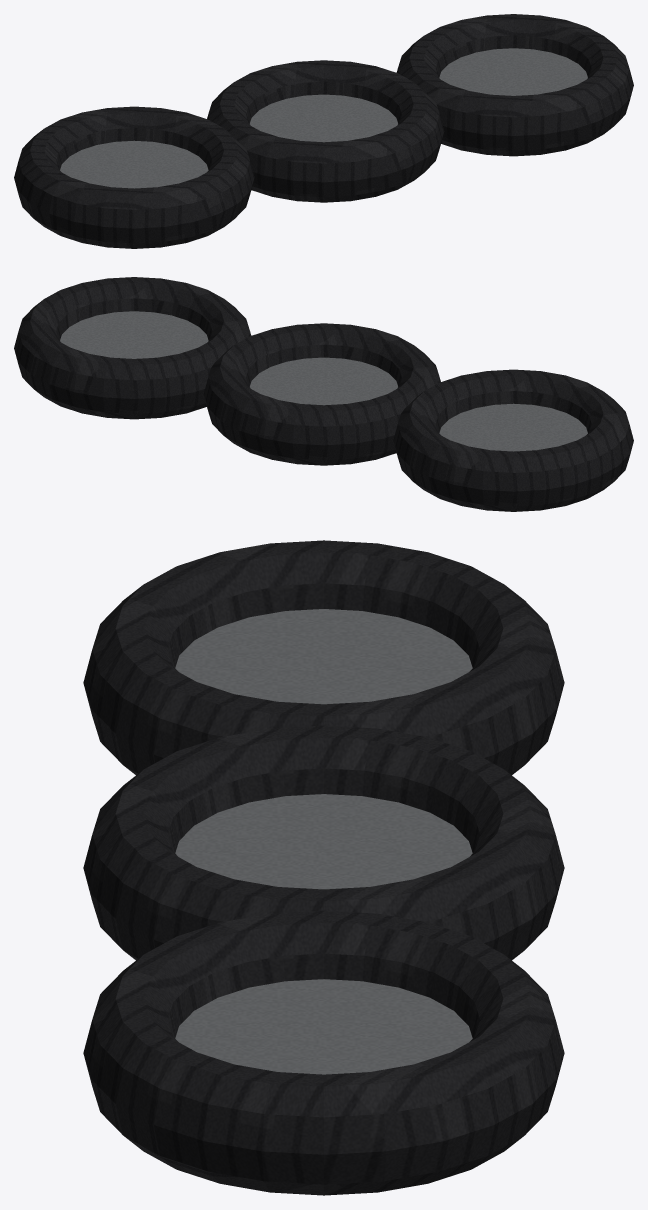
File: tire_row_3.dae
3 renders of one model, top to bottom at view 1: azimuth 30°, elevation 25°; view 2: azimuth 150°, elevation 25°; view 3: azimuth 270°, elevation 25°, orthographic. The views are drawn at different scales.
Visible parts, largest first — view 1: tire_0, tire_2, tire_1, rim_2, rim_0, rim_1; view 2: tire_0, tire_2, tire_1, rim_2, rim_0, rim_1; view 3: tire_2, tire_1, tire_0, rim_2, rim_1, rim_0.
Boxes of the visible parts, x1,y1,x2,y2 form: tire_0: [14, 106, 254, 248]; tire_2: [396, 14, 633, 156]; tire_1: [207, 60, 444, 202]; rim_2: [439, 48, 587, 95]; rim_0: [60, 140, 208, 188]; rim_1: [250, 94, 397, 142]; tire_0: [393, 369, 633, 511]; tire_2: [14, 277, 251, 419]; tire_1: [203, 323, 440, 465]; rim_2: [60, 311, 208, 358]; rim_0: [439, 403, 587, 451]; rim_1: [250, 357, 397, 405]; tire_2: [83, 910, 564, 1195]; tire_1: [83, 725, 564, 960]; tire_0: [83, 540, 564, 774]; rim_2: [175, 979, 472, 1074]; rim_1: [175, 794, 472, 889]; rim_0: [175, 609, 472, 704].
Bounding box in the file's own units: 2.32 × 0.824 × 0.2054.
Materials: 2 (2 with a texture image).
